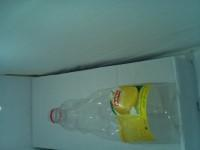bottle: (47, 81, 180, 146)
